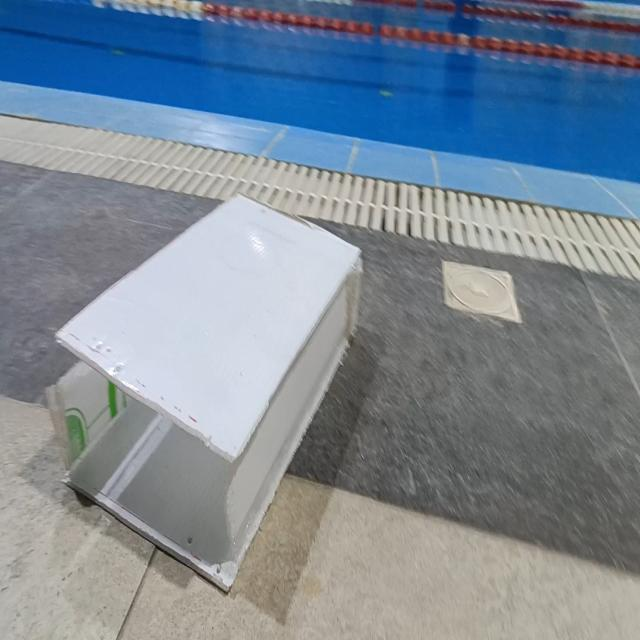Cuboid: (51, 190, 364, 593)
